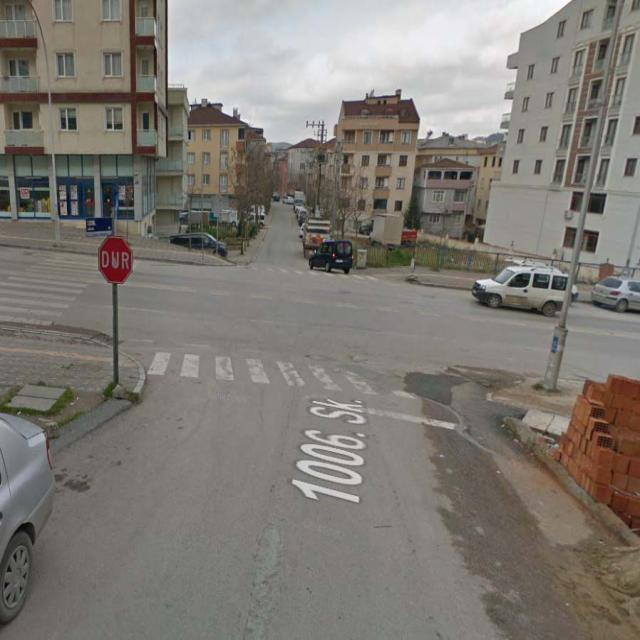dur: (97, 237, 132, 283)
